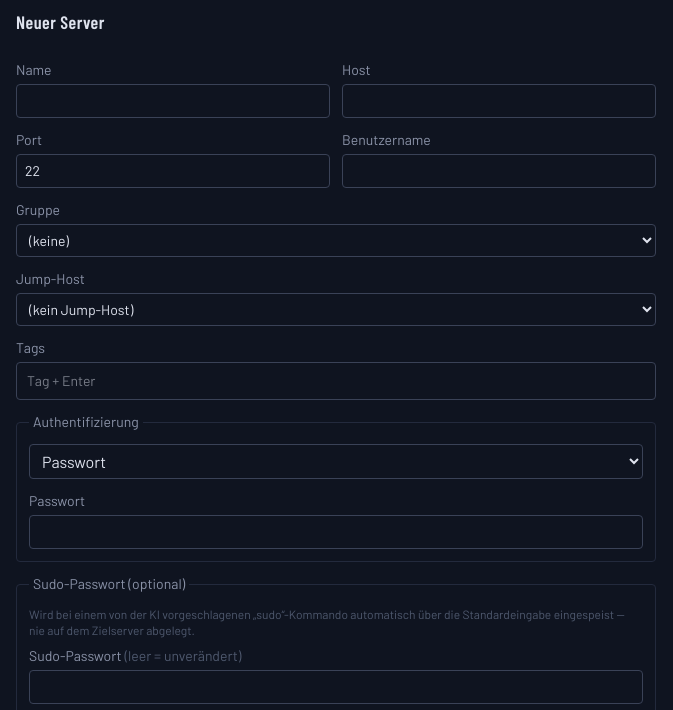
Test: ServerForm — Anmeldeart Schlüsseldatei (Spec 0076, B-1..B-4) › zeigt Rechte-Warnung bei KEY_FILE_INVALID_KEY, weil sie dort verlässlich ermittelt ist
The width and height of the screenshot is (673, 710).
Select "Schlüsseldatei" in the 3rd dropdown. click: (336,462)
box: [29,444,643,479]
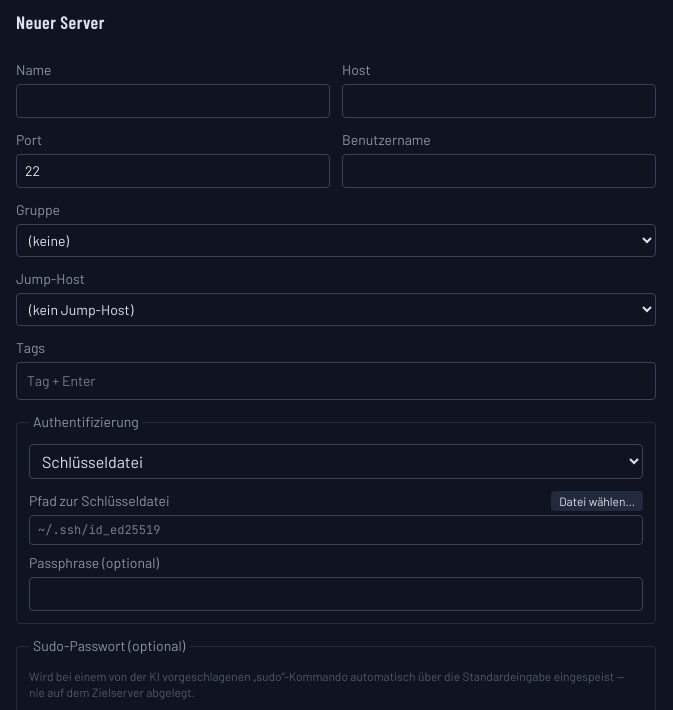
Type "/home/deploy/.ssh/id_ed25519" into the field with placeholder "~/.ssh/id_ed25519". click: (336,530)
box: [29,515,643,545]
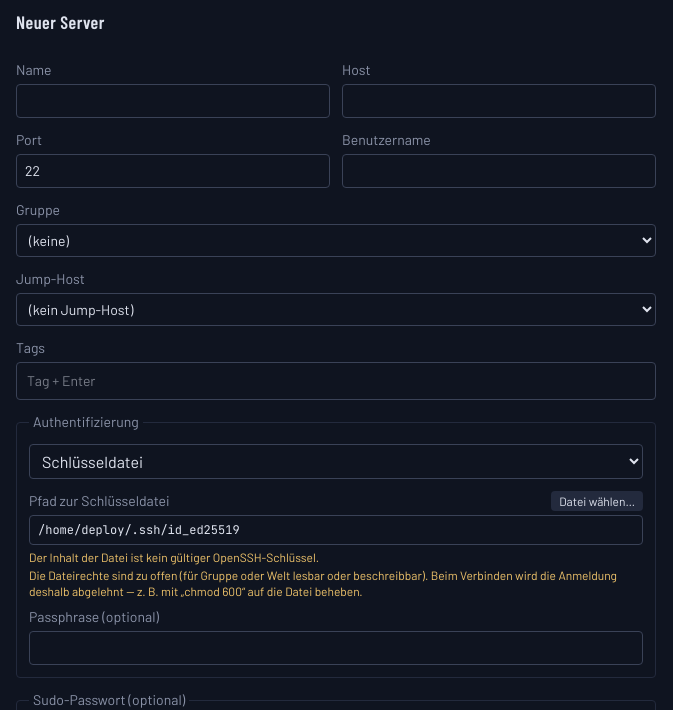
Expected: the list item "Die Dateirechte sind zu offen (für Gruppe oder Welt lesbar oder beschreibbar). Beim Verbinden wird die Anmeldung deshalb" is shown, [29,568,617,598]
